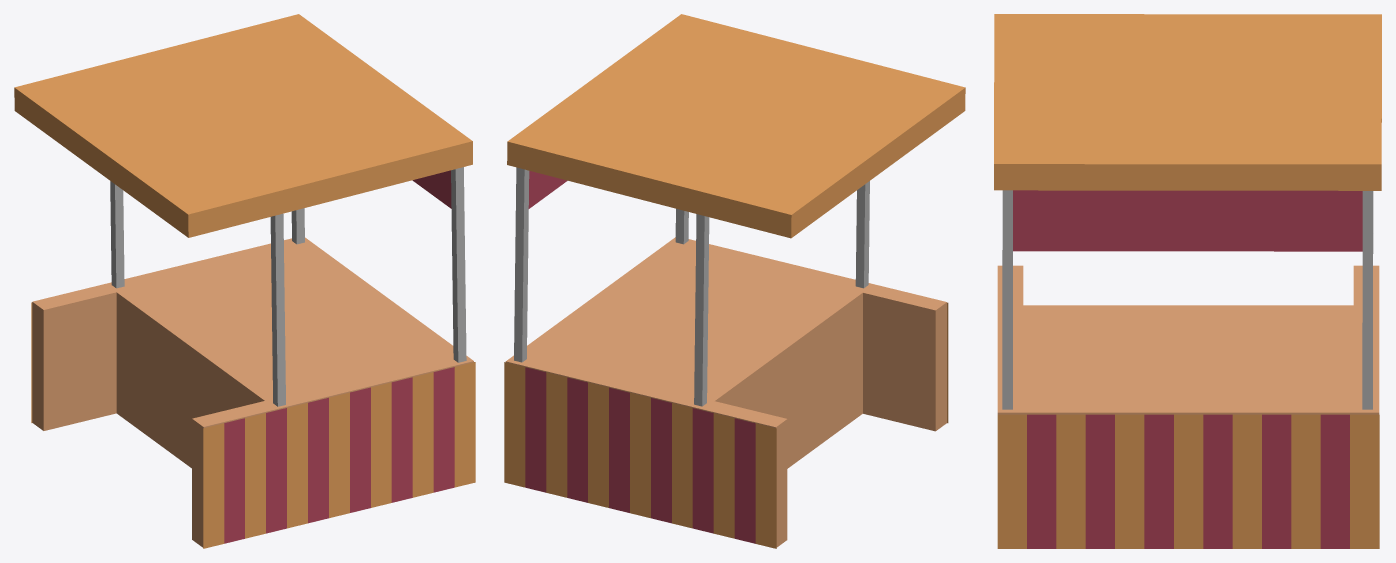
The model's file is booth2.2.fbx.
3 views of the same model, side by side, from view 1: azimuth 30°, elevation 25°; view 2: azimuth 150°, elevation 25°; view 3: azimuth 270°, elevation 25° (orthographic). The views are drawn at different scales.
Parts seen in each view (by area): view 1: Cube.005, Cube.003, Plane.002, Cube.004, Plane; view 2: Cube.005, Cube.003, Plane.003, Cube.004, Plane; view 3: Cube.005, Plane.001, Cube.003, Plane, Cube.004.
Part boxes in pixels (x1,y1,x2,y2): Cube.005: (14,14,472,237); Cube.003: (32,237,473,547); Plane.002: (203,362,475,548); Cube.004: (110,167,466,406); Plane: (412,170,451,208); Cube.005: (507,14,965,238); Cube.003: (505,237,946,547); Plane.003: (504,362,776,548); Cube.004: (514,167,869,406); Plane: (528,171,567,208); Cube.005: (994,14,1381,190); Plane.001: (997,414,1379,548); Cube.003: (997,265,1379,414); Plane: (1013,190,1362,251); Cube.004: (1002,190,1373,409).
Size of the model in its own units: 406 by 463 by 424.
